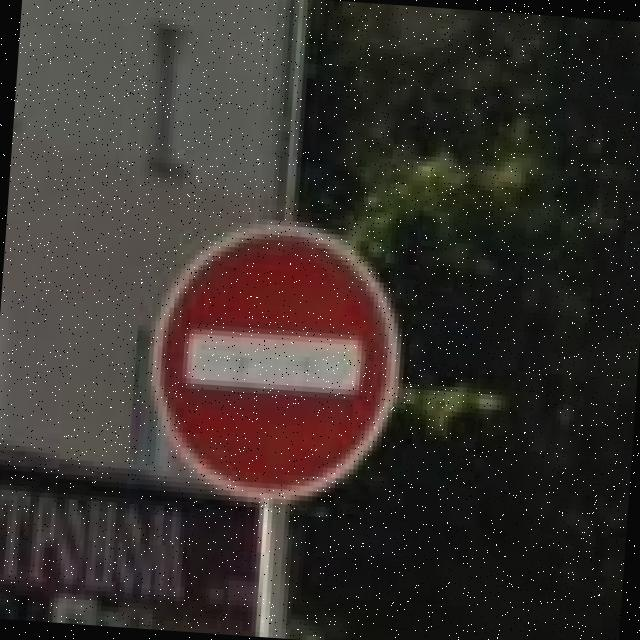Zakaz wjazdu: (138, 207, 410, 516)
